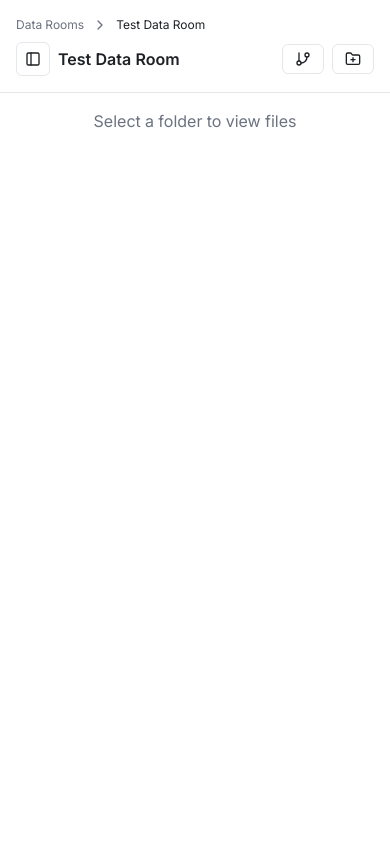
Scenario: DataRoomDetail › Responsive Layout › shows backdrop when file tree is open on mobile
Expected: the heading "Test Data Room" is shown, [58,47,180,71]
# Open file tree
Click the button named "toggle file tree".
click(33, 59)  # box [16,42,50,76]
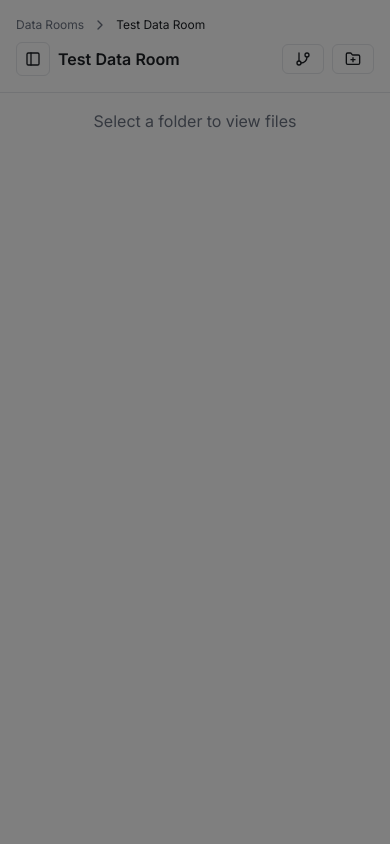
Now the element with test id "file-tree-backdrop" is shown
